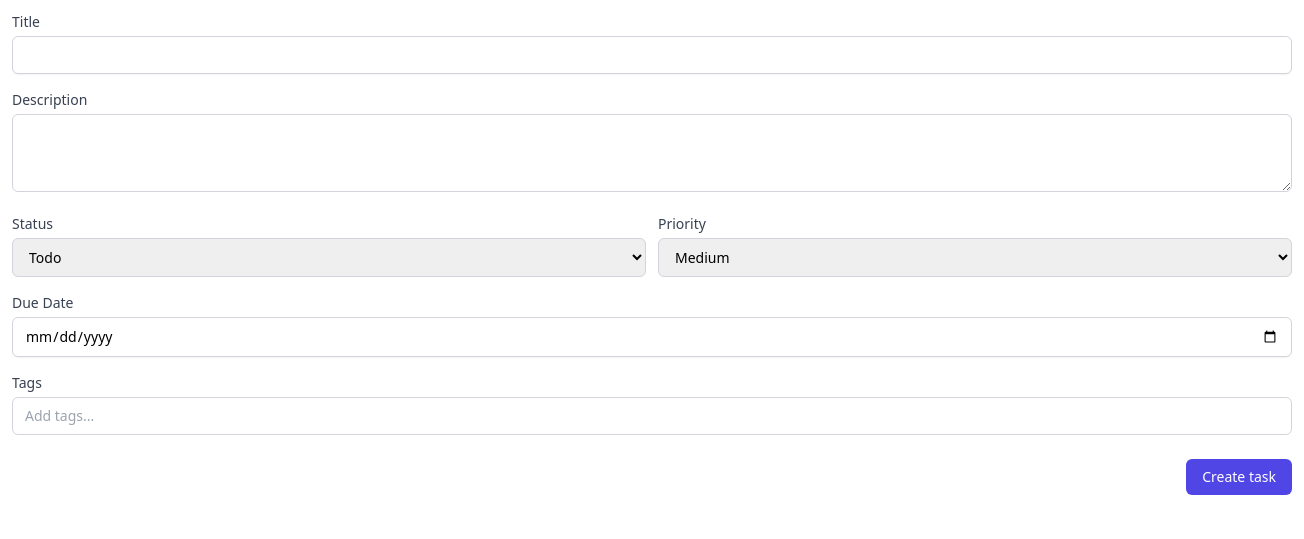
TaskForm › shows tag autocomplete dropdown when typing
Step 1. Type "wo" into the field with placeholder "Add tags..." → [652, 416], box [12, 397, 1292, 435]
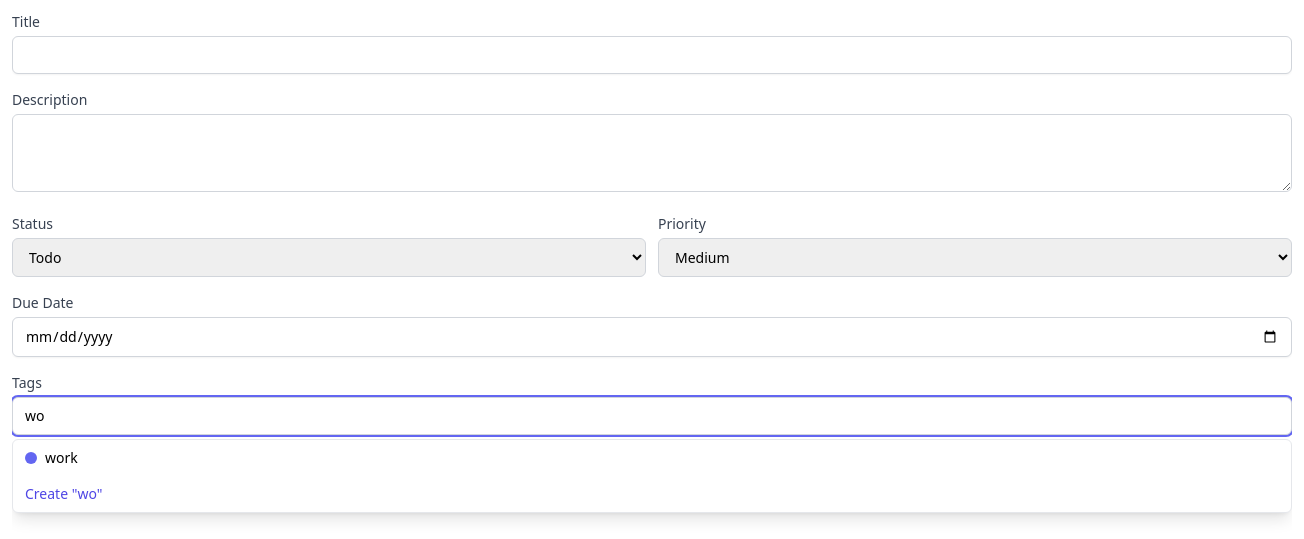
Now the button "work" is shown, box [13, 440, 1291, 476]
